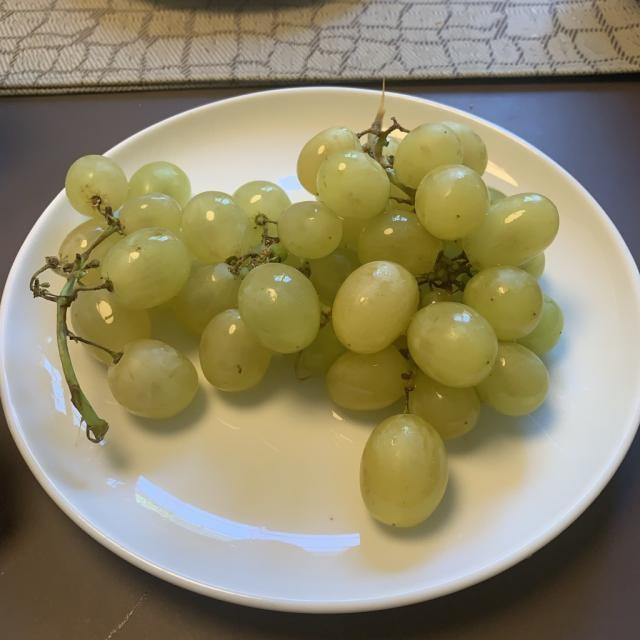grapes: (58, 128, 549, 521)
